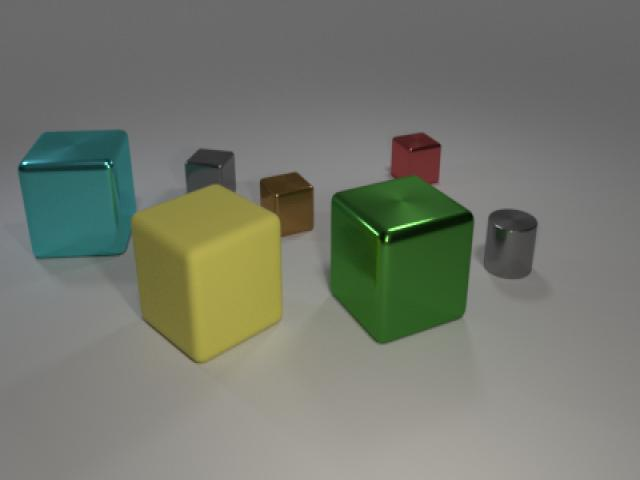cylinder: (481, 201, 543, 286)
